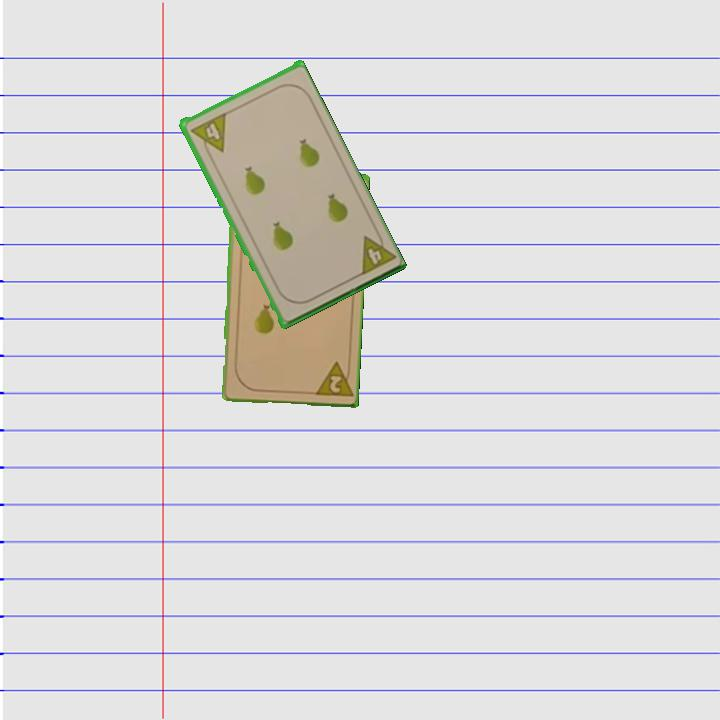2p: (309, 357, 354, 399)
4p: (186, 109, 229, 160), (355, 226, 397, 278)
